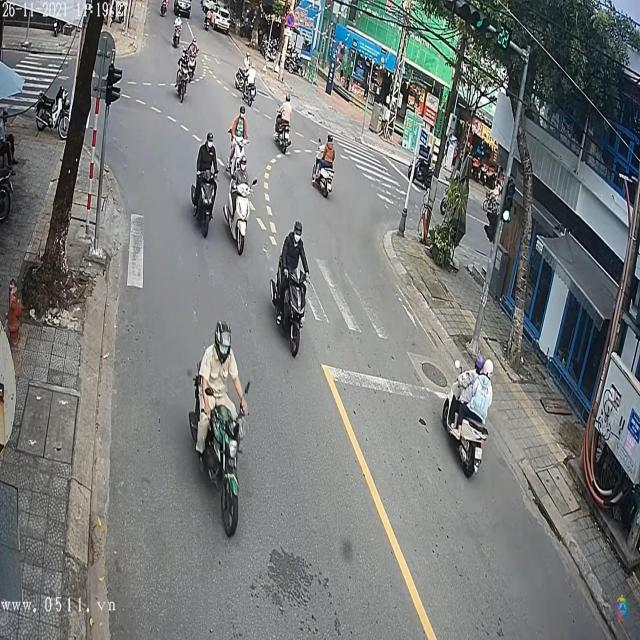motorcycle: (188, 359, 252, 536), (442, 350, 490, 479), (268, 242, 310, 363), (223, 169, 254, 258), (190, 147, 218, 237), (311, 161, 334, 202), (175, 61, 191, 107), (275, 116, 293, 155)
